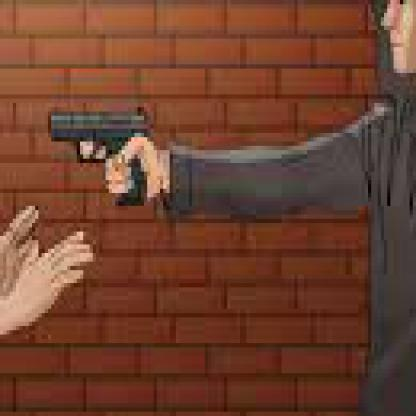gun: (41, 94, 156, 210)
